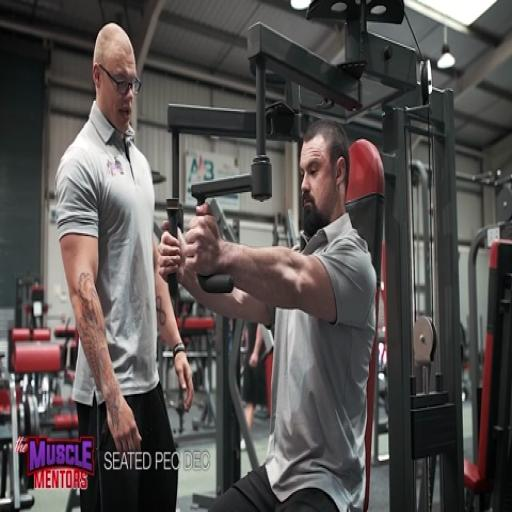exercise: (154, 116, 380, 510), (52, 20, 196, 510)
